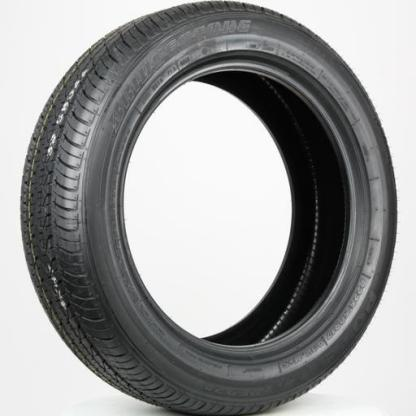Tire: (16, 0, 401, 415)
